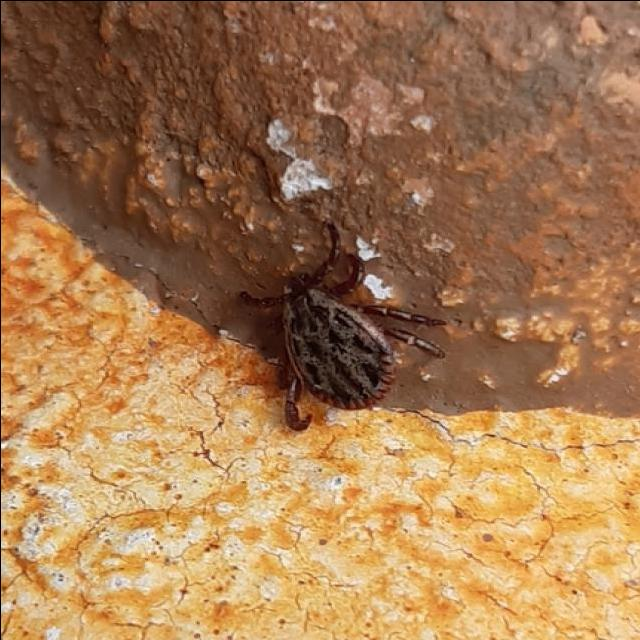Dermacentor Reticulatus-M: (251, 216, 445, 431), (331, 252, 367, 294)
